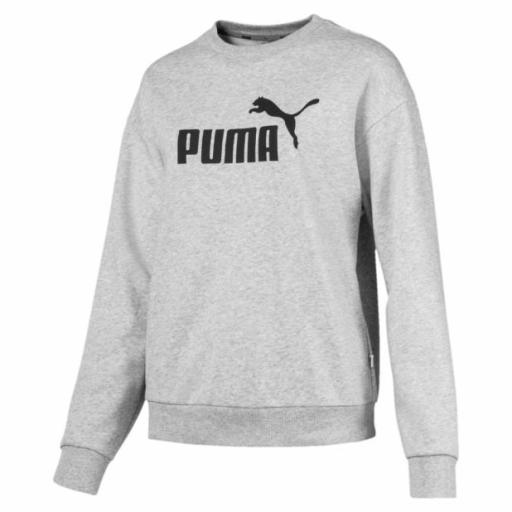Puma: (175, 122, 280, 167), (249, 90, 323, 150)
